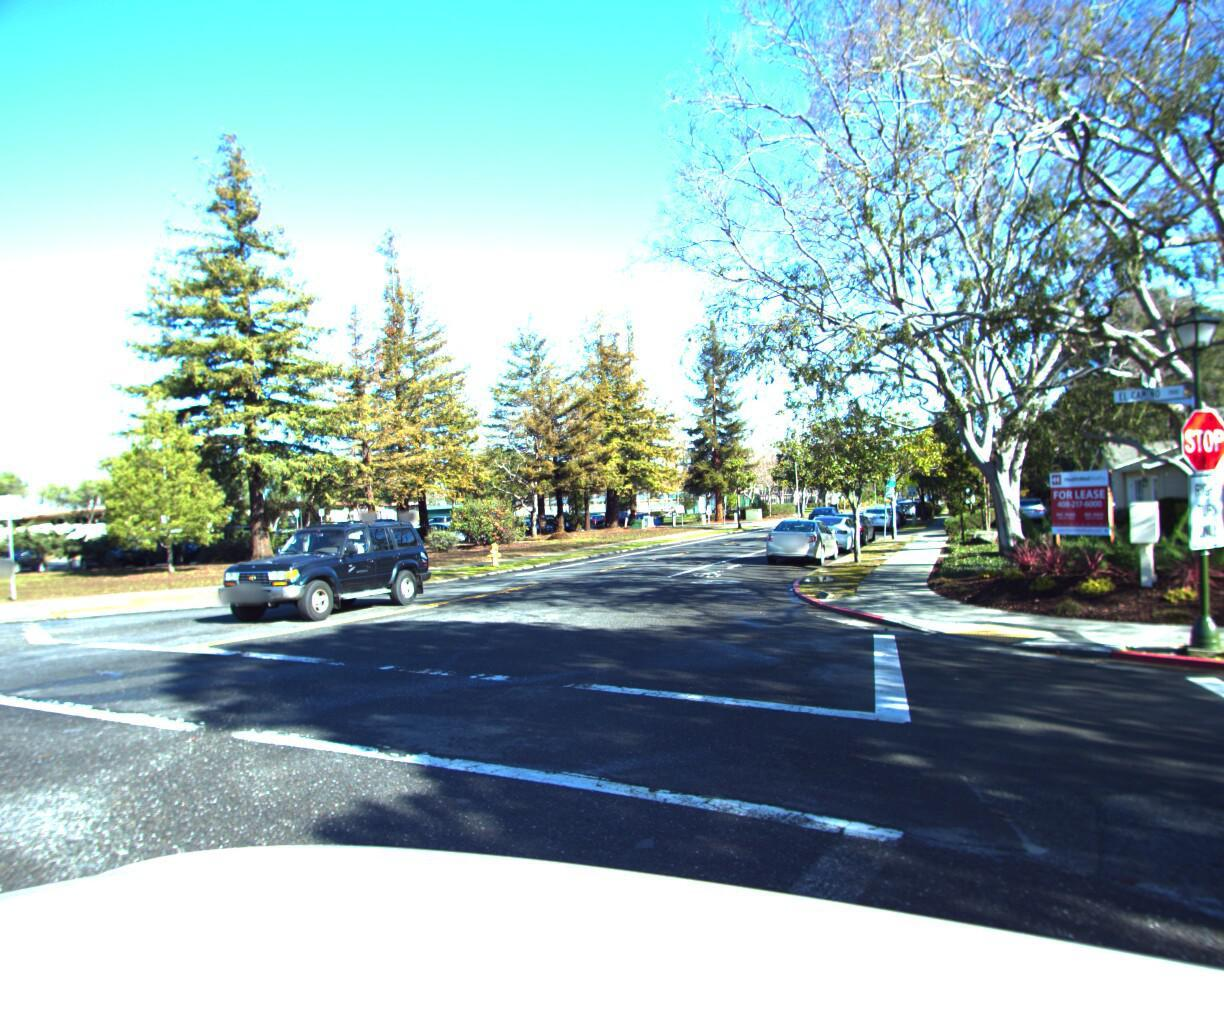car: (198, 508, 441, 628), (759, 507, 838, 563), (797, 505, 862, 550), (820, 502, 877, 541), (1007, 489, 1047, 518), (856, 498, 896, 525), (891, 490, 917, 511)
